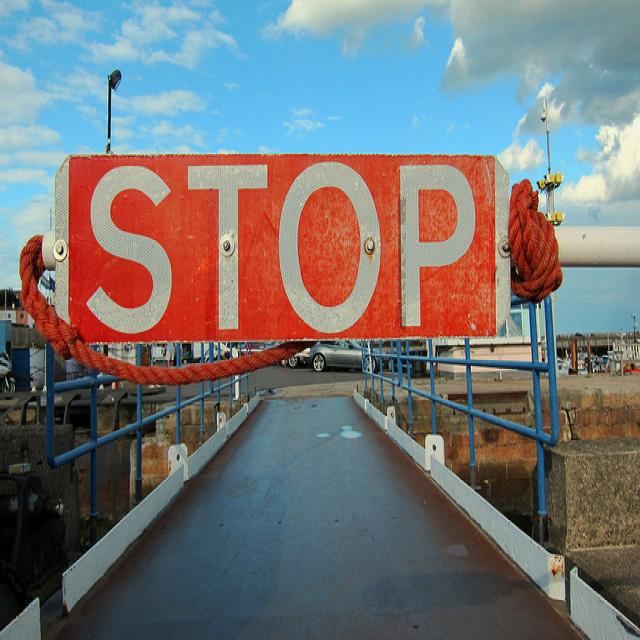motor: (0, 348, 16, 399)
